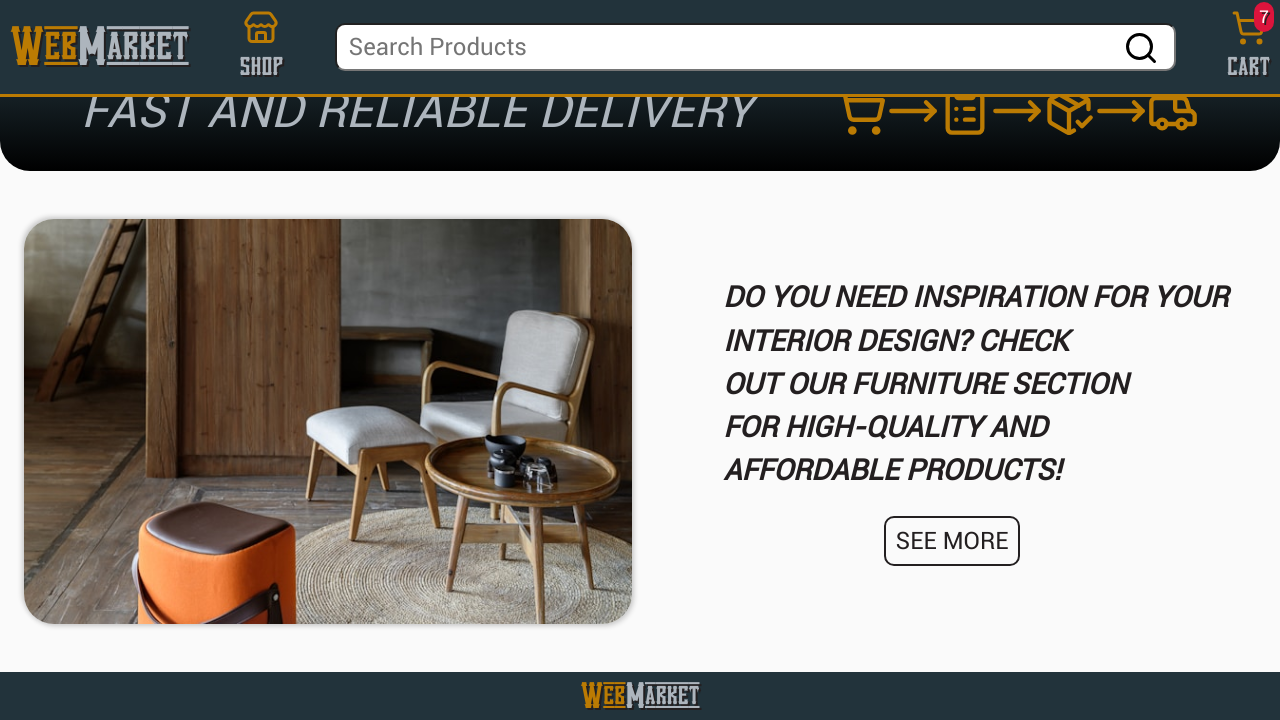
Test: Home component › furniture section link redirects to the furniture category
This screenshot has width=1280, height=720.
(page scrolled)
Click the link "INTERIOR DESIGN": coordinates (640, 421) [0,195,1279,648]
(page scrolled)
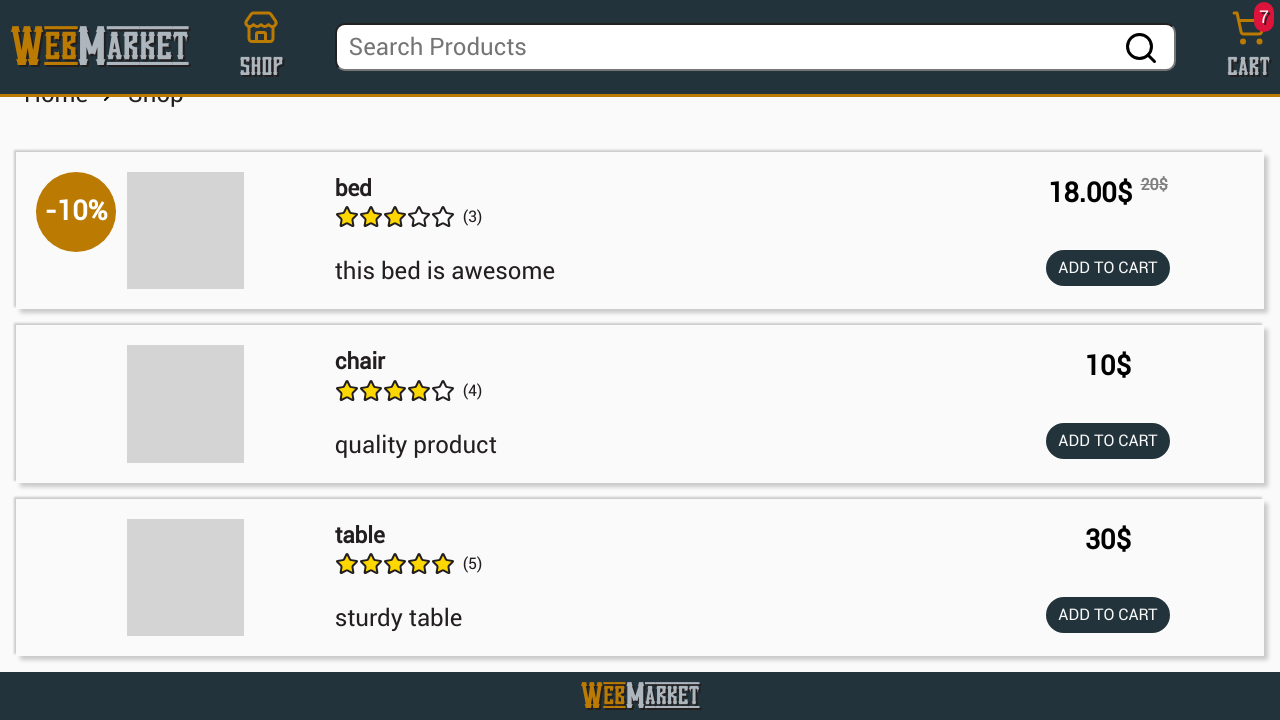
Now the heading "bed" is shown, box [335,175,372,201]
Now the heading "table" is shown, box [335,522,385,548]
